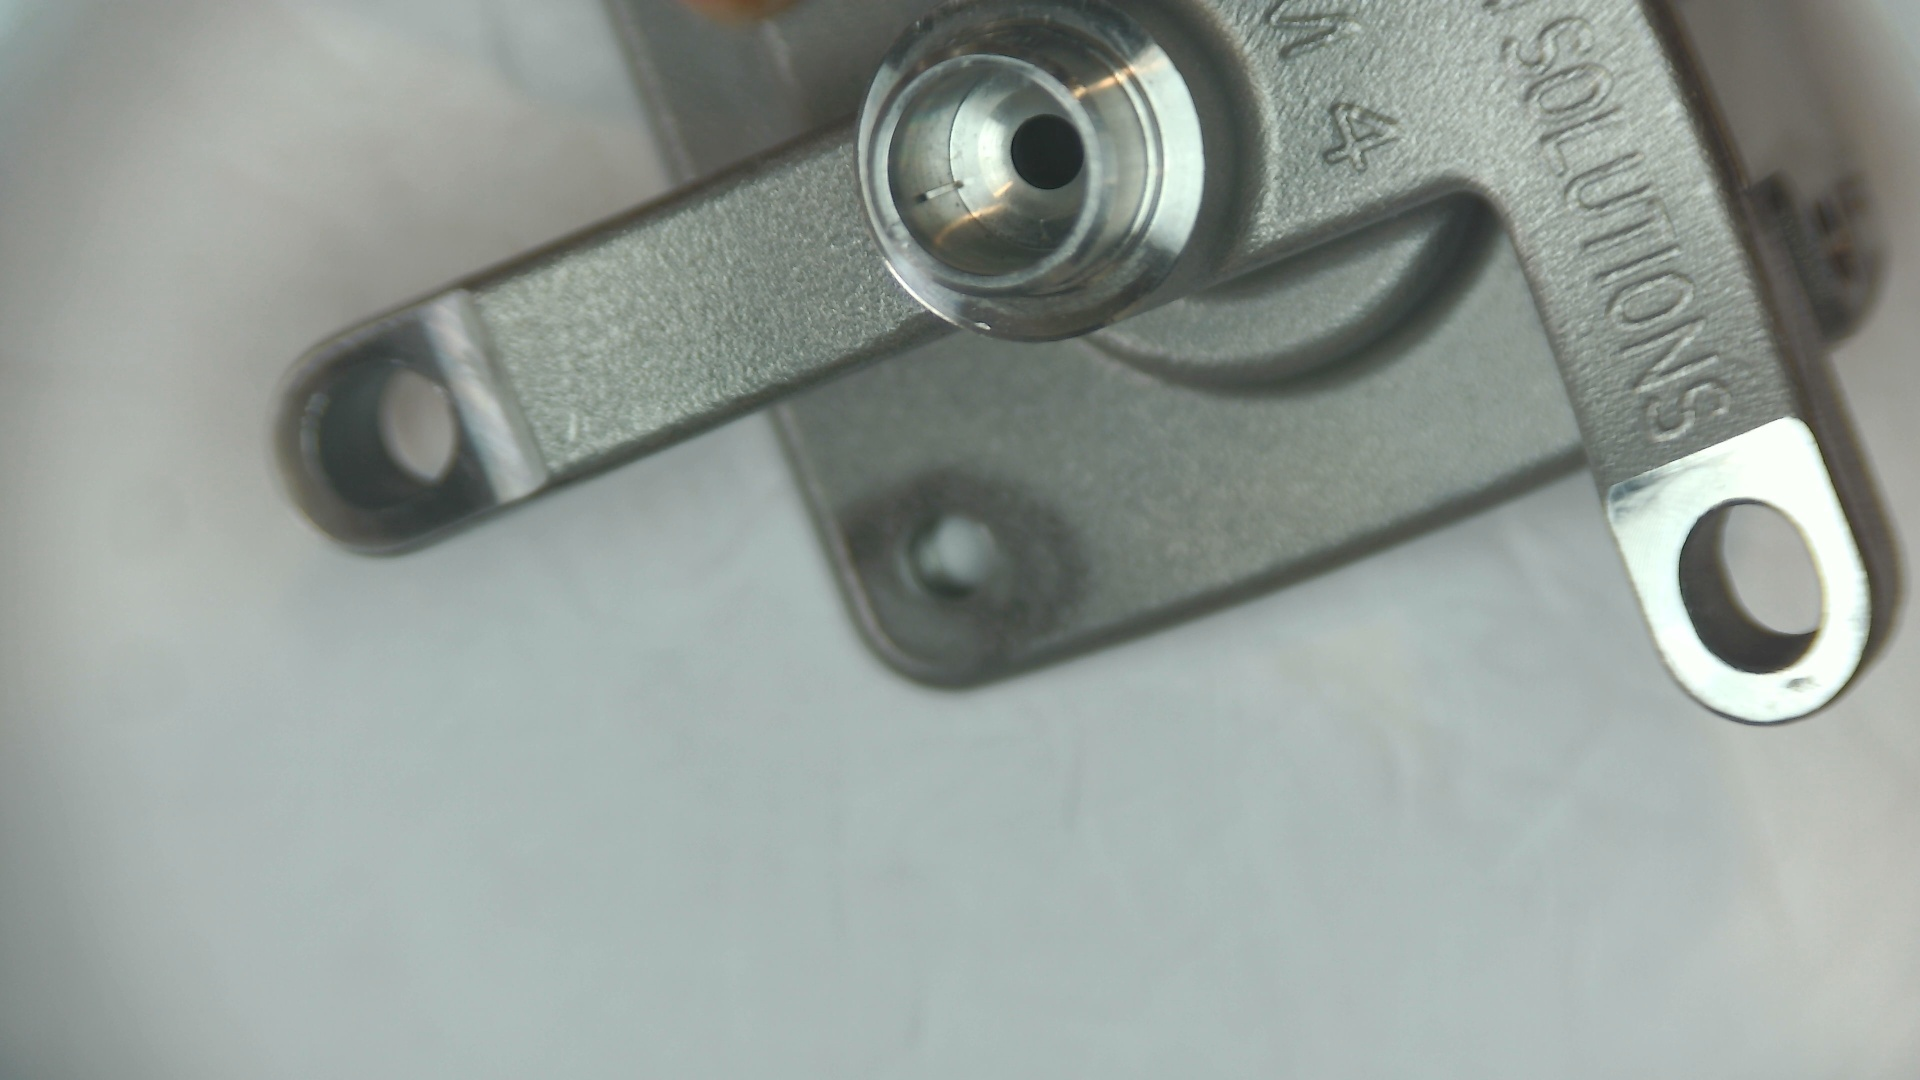burr: (1826, 348, 1920, 411)
